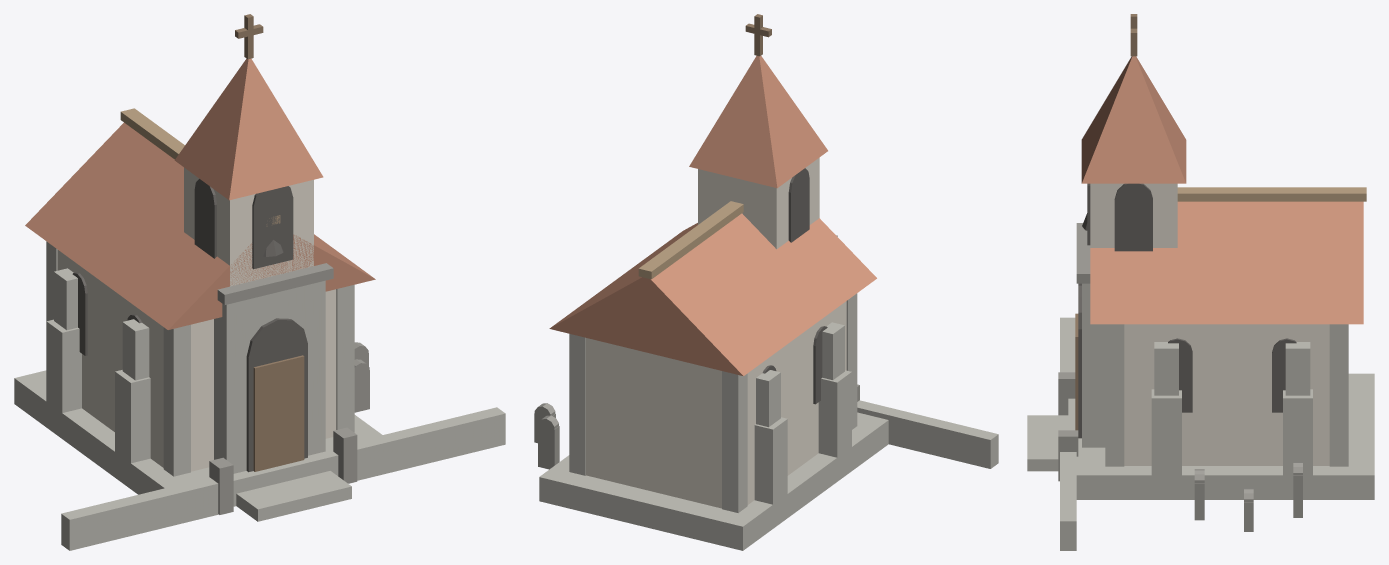
File: era1-chapel-UMJh9rzD.glb
3 views of the same model, side by side, from view 1: azimuth 30°, elevation 25°; view 2: azimuth 150°, elevation 25°; view 3: azimuth 270°, elevation 25° (orthographic). The views are drawn at different scales.
Visible parts, largest first — view 1: Chapel_Roof, Chapel_Nave, Chapel_Spire, Chapel_TowerLow, Chapel_Plinth, Chapel_WallL, Chapel_TowerHigh, Chapel_WallR, Chapel_Door, Chapel_QuoinFL, Chapel_Step, Chapel_ButL1Low (+16 smaller); view 2: Chapel_Roof, Chapel_Nave, Chapel_Plinth, Chapel_Spire, Chapel_TowerHigh, Chapel_WallL, Chapel_QuoinBL, Chapel_ButL2Low, Chapel_ButL1Low, Chapel_QuoinBR, Chapel_Ridge, Chapel_ButL2High (+4 smaller); view 3: Chapel_Roof, Chapel_Nave, Chapel_Plinth, Chapel_Spire, Chapel_TowerHigh, Chapel_TowerLow, Chapel_QuoinBR, Chapel_QuoinFR, Chapel_Ridge, Chapel_ButR1Low, Chapel_ButR2Low, Chapel_Step (+14 smaller).
Part boxes in pixels (x1=…): Chapel_Roof: x1=25, y1=122, x2=375, y2=329; Chapel_Nave: x1=57, y1=250, x2=336, y2=471; Chapel_Spire: x1=174, y1=58, x2=323, y2=200; Chapel_TowerLow: x1=214, y1=280, x2=325, y2=473; Chapel_Plinth: x1=14, y1=370, x2=382, y2=506; Chapel_WallL: x1=61, y1=477, x2=218, y2=550; Chapel_TowerHigh: x1=184, y1=167, x2=313, y2=286; Chapel_WallR: x1=357, y1=407, x2=505, y2=480; Chapel_Door: x1=253, y1=355, x2=304, y2=471; Chapel_QuoinFL: x1=163, y1=324, x2=190, y2=476; Chapel_Step: x1=236, y1=471, x2=351, y2=521; Chapel_ButL1Low: x1=115, y1=370, x2=150, y2=465; Chapel_Roof: x1=549, y1=213, x2=876, y2=376; Chapel_Nave: x1=586, y1=301, x2=846, y2=508; Chapel_Plinth: x1=539, y1=412, x2=888, y2=550; Chapel_Spire: x1=689, y1=56, x2=827, y2=188; Chapel_TowerHigh: x1=698, y1=157, x2=819, y2=249; Chapel_WallL: x1=857, y1=400, x2=998, y2=468; Chapel_QuoinBL: x1=722, y1=371, x2=747, y2=512; Chapel_ButL2Low: x1=754, y1=417, x2=787, y2=504; Chapel_ButL1Low: x1=818, y1=370, x2=851, y2=459; Chapel_QuoinBR: x1=569, y1=334, x2=585, y2=475; Chapel_Ridge: x1=638, y1=201, x2=743, y2=279; Chapel_ButL2High: x1=756, y1=370, x2=780, y2=427; Chapel_Roof: x1=1090, y1=201, x2=1363, y2=324; Chapel_Nave: x1=1124, y1=324, x2=1329, y2=465; Chapel_Plinth: x1=1068, y1=373, x2=1374, y2=499; Chapel_Spire: x1=1081, y1=56, x2=1186, y2=183; Chapel_TowerHigh: x1=1090, y1=183, x2=1177, y2=247; Chapel_TowerLow: x1=1082, y1=283, x2=1105, y2=447; Chapel_QuoinBR: x1=1329, y1=324, x2=1348, y2=466; Chapel_QuoinFR: x1=1105, y1=324, x2=1124, y2=466; Chapel_Ridge: x1=1177, y1=187, x2=1366, y2=201; Chapel_ButR1Low: x1=1151, y1=389, x2=1181, y2=477; Chapel_ButR2Low: x1=1283, y1=389, x2=1312, y2=477; Chapel_Step: x1=1027, y1=415, x2=1068, y2=471.
Bounding box in the file's own units: 8.8 × 8.75 × 6.35.
